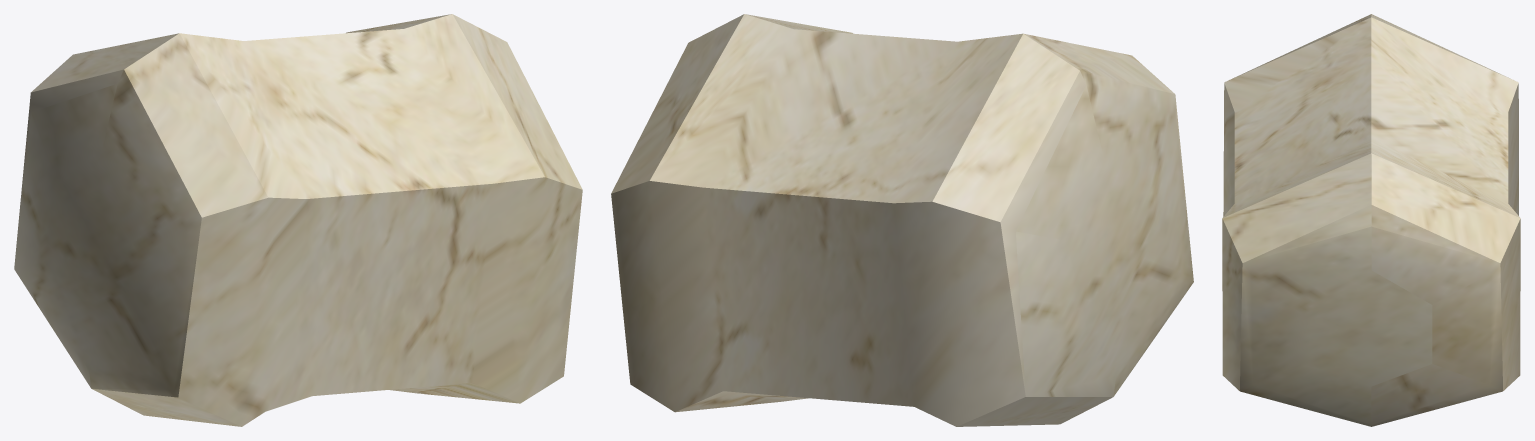
The model's file is 고래뼈한조각2.FBX.
The picture shows the model from 3 angles, left to right: view 1: azimuth 30°, elevation 25°; view 2: azimuth 150°, elevation 25°; view 3: azimuth 270°, elevation 25°; orthographic projection. The views are drawn at different scales.
Visible parts, largest first — view 1: Object048; view 2: Object048; view 3: Object048.
Part boxes in pixels (box(x1,y1,x2,y2)): Object048: box(14, 14, 582, 426); Object048: box(611, 14, 1193, 426); Object048: box(1222, 14, 1520, 426).
Bounding box in the file's own units: 23.74 × 22 × 18.87.
Materials: 1 (1 with a texture image).
